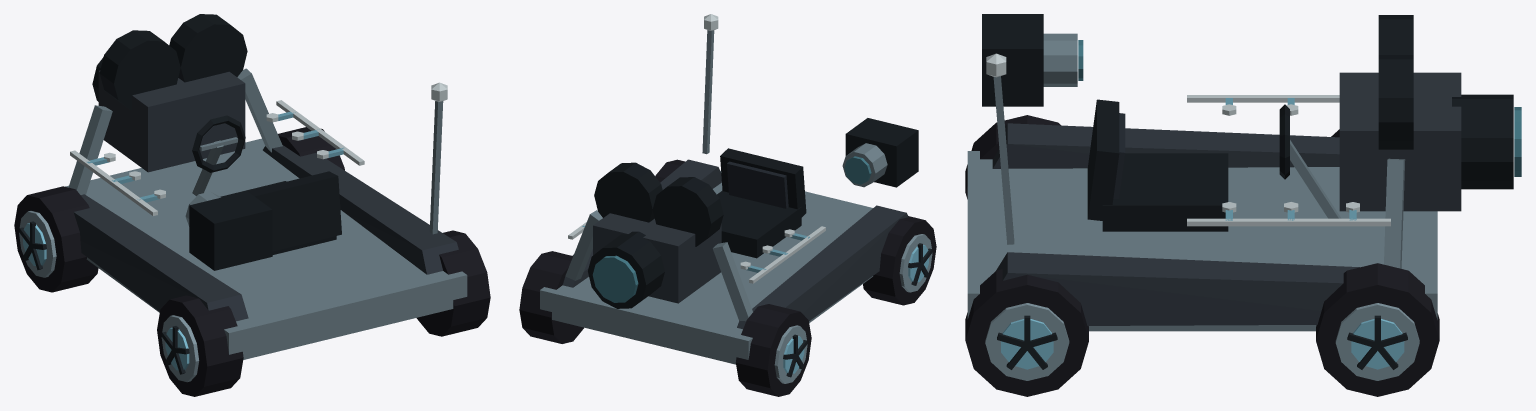
Rendered from kart.glb.
3 renders of one model, left to right at view 1: azimuth 30°, elevation 25°; view 2: azimuth 150°, elevation 25°; view 3: azimuth 270°, elevation 25°, orthographic. The views are drawn at different scales.
Visible parts, largest first — view 1: identity-camera-rig-camera-dolly-and-lens, identity-camera-rig-driver-cockpit, wheel-rear-left, wheel-front-left, identity-camera-rig-motif-camera, wheel-rear-right, identity-camera-rig-motif-circuit, identity-camera-rig-motif-antenna, wheel-front-right; view 2: identity-camera-rig-camera-dolly-and-lens, identity-camera-rig-driver-cockpit, wheel-front-left, identity-camera-rig-motif-camera, wheel-rear-left, wheel-front-right, identity-camera-rig-motif-circuit, identity-camera-rig-motif-antenna; view 3: identity-camera-rig-camera-dolly-and-lens, identity-camera-rig-driver-cockpit, wheel-front-right, wheel-rear-right, identity-camera-rig-motif-camera, identity-camera-rig-motif-circuit, identity-camera-rig-motif-antenna, wheel-rear-left.
Boxes of the visible parts, bbox=[...] form: identity-camera-rig-camera-dolly-and-lens: bbox=[65, 14, 467, 359]; identity-camera-rig-driver-cockpit: bbox=[192, 115, 341, 254]; wheel-rear-left: bbox=[157, 295, 243, 396]; wheel-front-left: bbox=[14, 186, 98, 292]; identity-camera-rig-motif-camera: bbox=[185, 191, 272, 270]; wheel-rear-right: bbox=[416, 230, 490, 336]; identity-camera-rig-motif-circuit: bbox=[70, 100, 364, 215]; identity-camera-rig-motif-antenna: bbox=[429, 82, 447, 234]; wheel-front-right: bbox=[278, 127, 344, 170]; identity-camera-rig-camera-dolly-and-lens: bbox=[540, 159, 908, 364]; identity-camera-rig-driver-cockpit: bbox=[717, 148, 806, 258]; wheel-front-left: bbox=[735, 304, 811, 396]; identity-camera-rig-motif-camera: bbox=[842, 118, 918, 187]; wheel-rear-left: bbox=[863, 216, 936, 305]; wheel-front-right: bbox=[519, 251, 583, 343]; identity-camera-rig-motif-circuit: bbox=[568, 222, 825, 283]; identity-camera-rig-motif-antenna: bbox=[702, 14, 718, 154]; identity-camera-rig-camera-dolly-and-lens: bbox=[967, 15, 1521, 331]; identity-camera-rig-driver-cockpit: bbox=[1087, 99, 1341, 231]; wheel-front-right: bbox=[1316, 263, 1439, 396]; wheel-rear-right: bbox=[965, 269, 1088, 396]; identity-camera-rig-motif-camera: bbox=[982, 14, 1083, 106]; identity-camera-rig-motif-circuit: bbox=[1187, 95, 1390, 226]; identity-camera-rig-motif-antenna: bbox=[986, 53, 1014, 244]; wheel-rear-left: bbox=[965, 115, 1061, 199].
Size of the model in its own units: 2.07 by 1.72 by 2.7.
